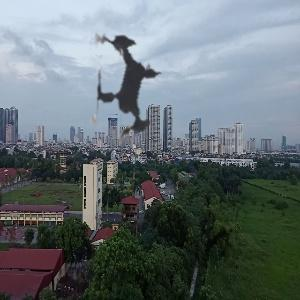drone: (41, 3, 216, 178)
